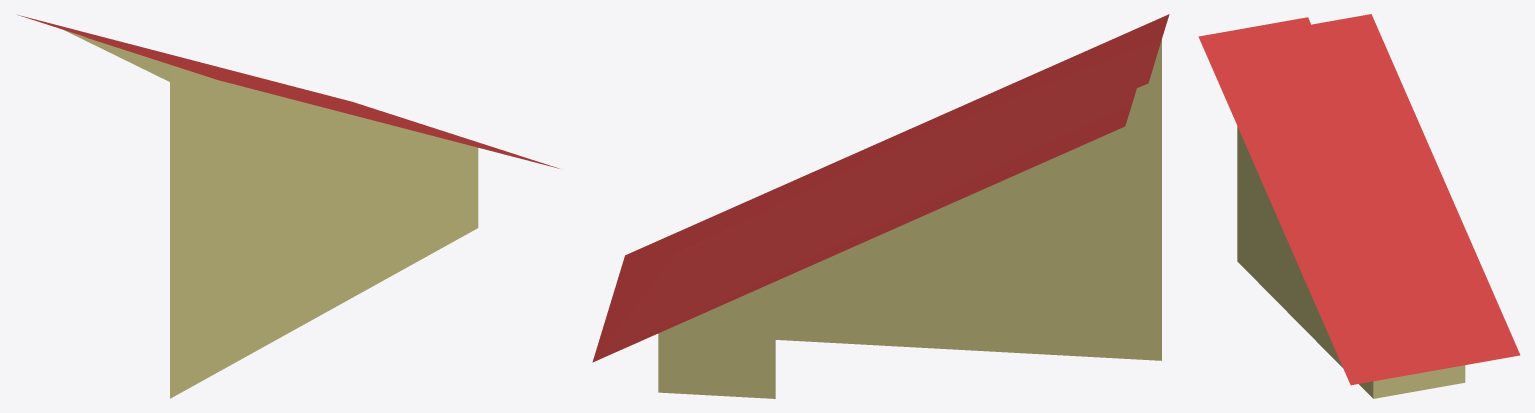
3 renders of one model, left to right at view 1: azimuth 30°, elevation 25°; view 2: azimuth 150°, elevation 25°; view 3: azimuth 270°, elevation 25°, orthographic. The views are drawn at different scales.
Size of the model in its own units: 5.06 by 3.81 by 3.03.
